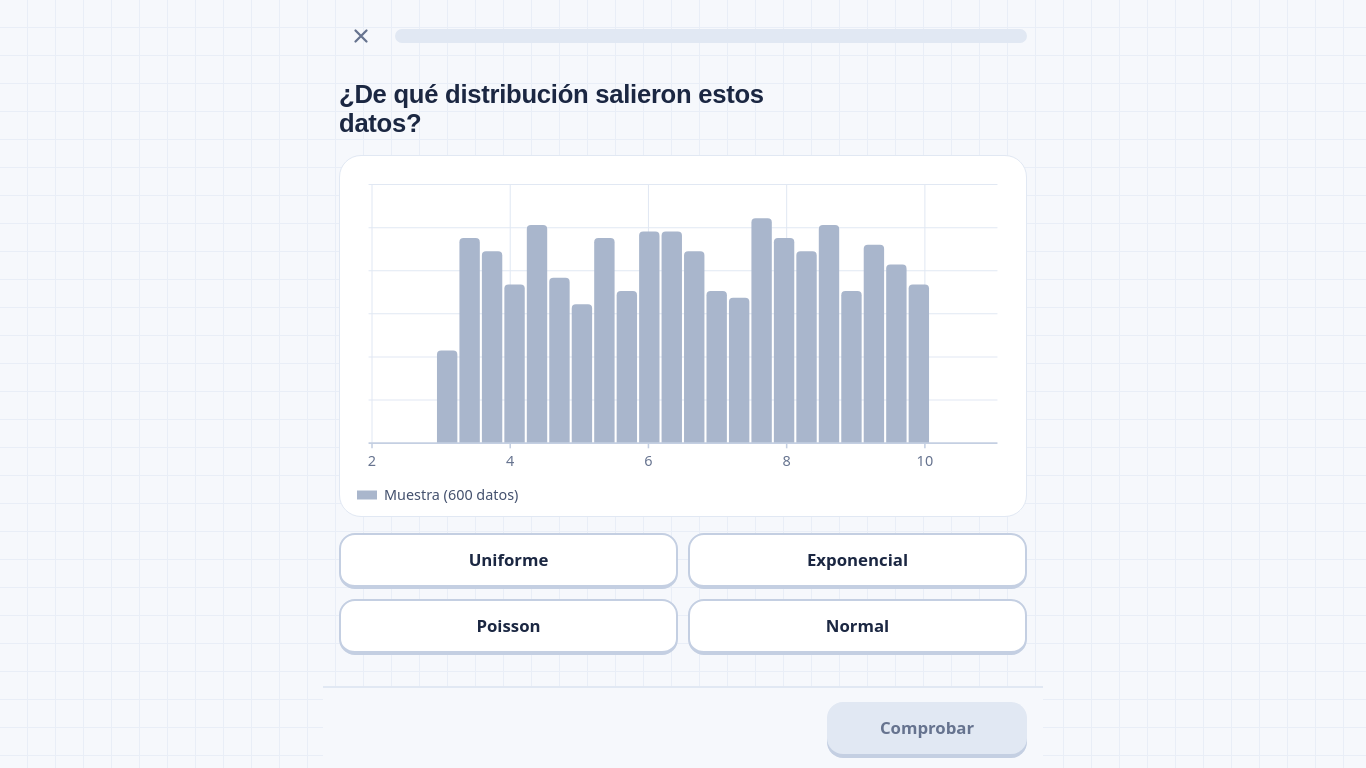
Scenario: LessonPlayer › checks an answer and shows feedback
Check: the button "Comprobar" is disabled, box [827,702,1027,754]
Step 1. Click the radio button labelled "Uniforme" → point(508, 561), box [339,533,678,589]
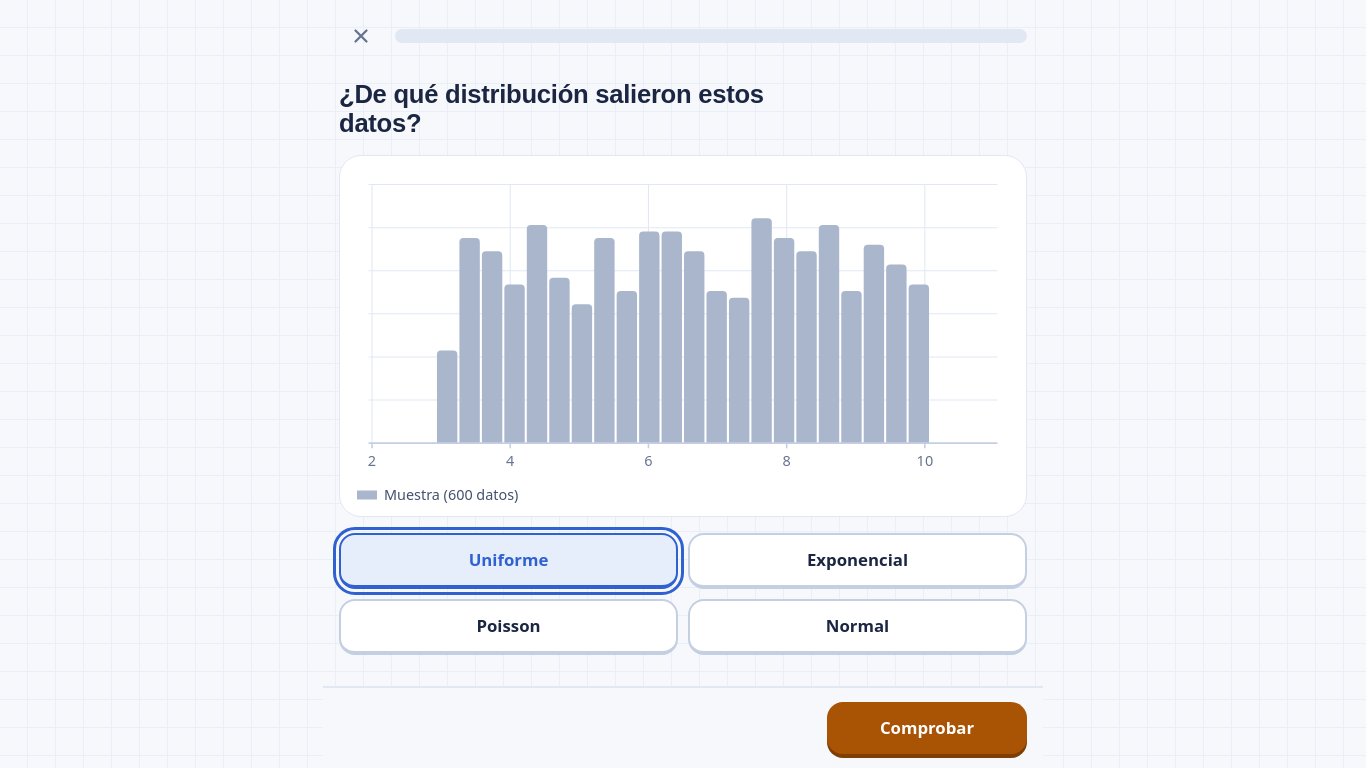
Check: the button "Comprobar" is enabled
Step 2. Click the button "Comprobar" → point(927, 728), box [827,702,1027,754]
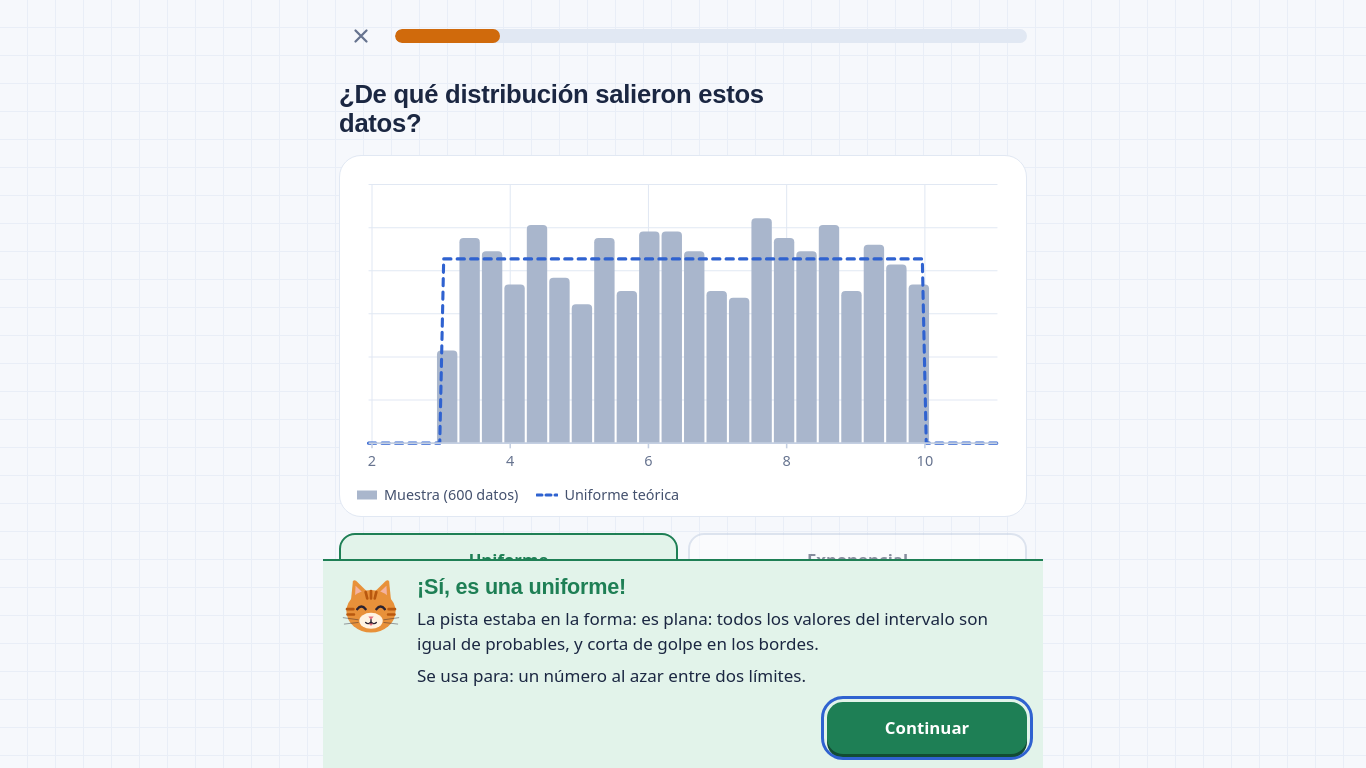
Check: the button "Continuar" is shown, box [827,702,1027,754]
Check: the heading "¡Sí, es una uniforme!" is shown, box [417,575,626,599]
